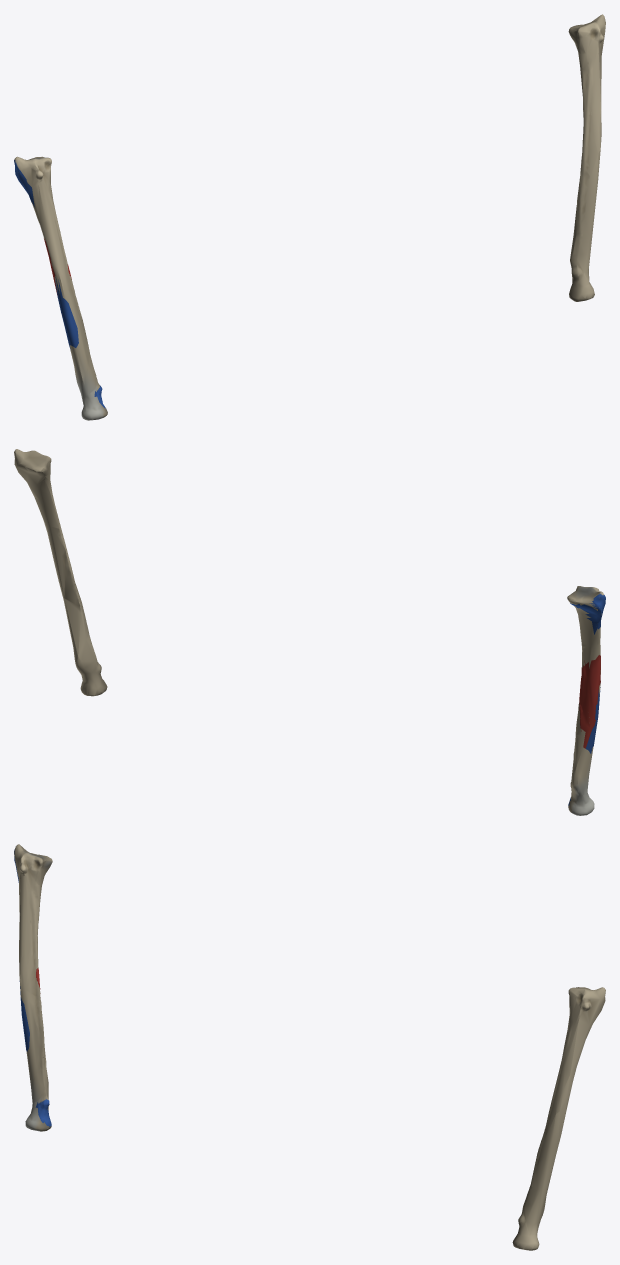
File: radius.glb
3 views of the same model, one above another, from view 1: azimuth 30°, elevation 25°; view 2: azimuth 150°, elevation 25°; view 3: azimuth 330°, elevation 25° (orthographic).
Visible parts, largest first — view 1: FJ3277, FJ3349, radius__caput-collum, radius__processus-styloideus; view 2: FJ3277, FJ3349, origo__corpus-pronator__FJ1498, radius__caput-collum; view 3: FJ3277, FJ3349.
Part boxes in pixels (<box>): FJ3277: <box>568,14,605,301</box>; FJ3349: <box>19,156,107,416</box>; radius__caput-collum: <box>76,374,104,420</box>; radius__processus-styloideus: <box>14,156,50,186</box>; FJ3277: <box>14,449,107,696</box>; FJ3349: <box>567,586,600,812</box>; origo__corpus-pronator__FJ1498: <box>579,655,600,748</box>; radius__caput-collum: <box>571,776,594,815</box>; FJ3277: <box>512,987,605,1250</box>; FJ3349: <box>19,844,52,1131</box>.
Bounding box in the file's own units: 559 × 229 × 66.15.
